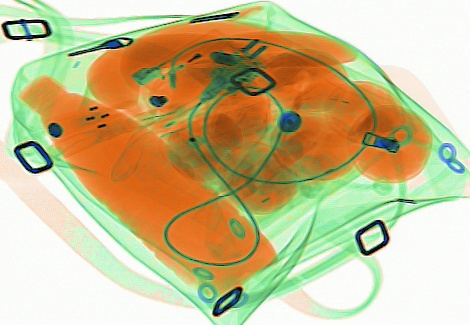lighter: (130, 25, 232, 86)
